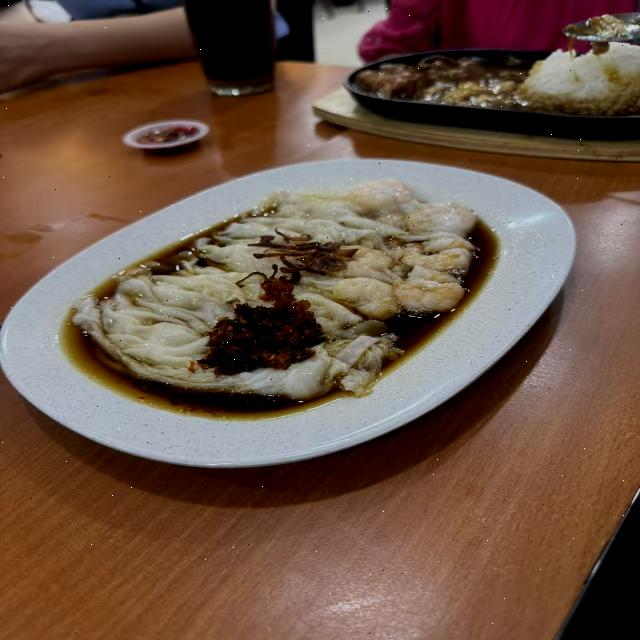Chee Cheong Fun: (41, 156, 533, 448)
